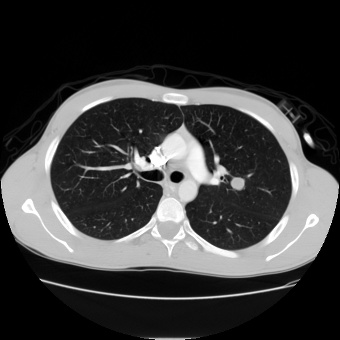PN: (230, 176, 244, 190)
